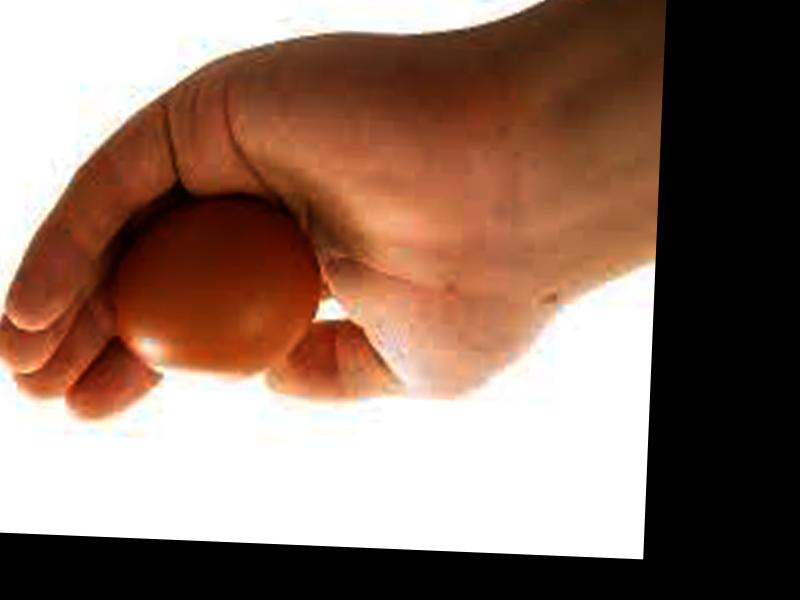Eggs: (93, 196, 325, 381)
